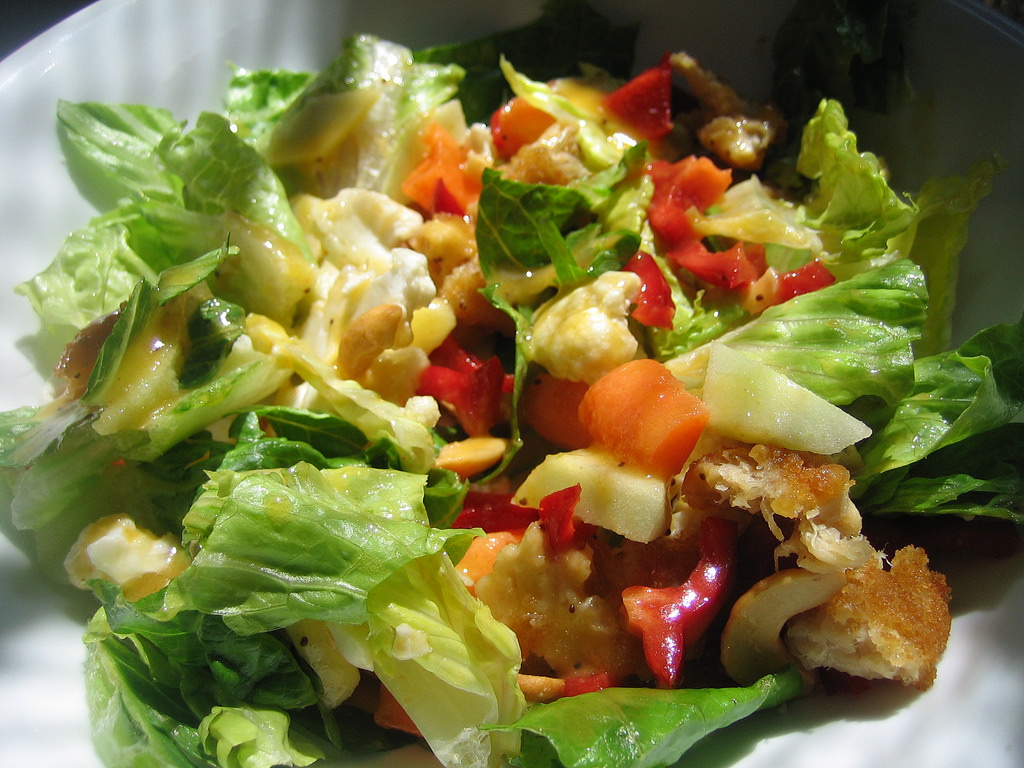chopped lettuce: (124, 135, 509, 732)
